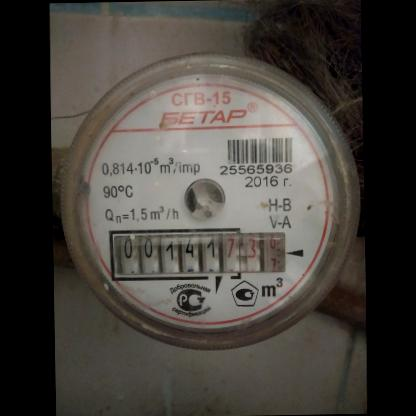digital_screen: (107, 227, 221, 281)
